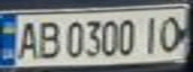0: (100, 17, 121, 59), (63, 17, 84, 59), (118, 16, 139, 56)
3: (81, 17, 103, 59)
A: (12, 18, 42, 61)
B: (33, 18, 63, 61)
I: (139, 12, 163, 55)
O: (154, 11, 190, 54)
